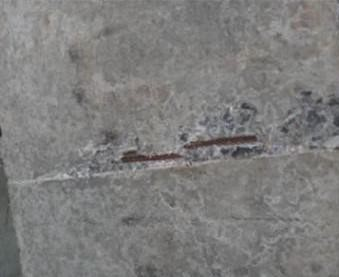Exposed reinforcement: (182, 134, 259, 150), (120, 152, 184, 163), (119, 149, 139, 156)
Spalling: (64, 90, 339, 180)
